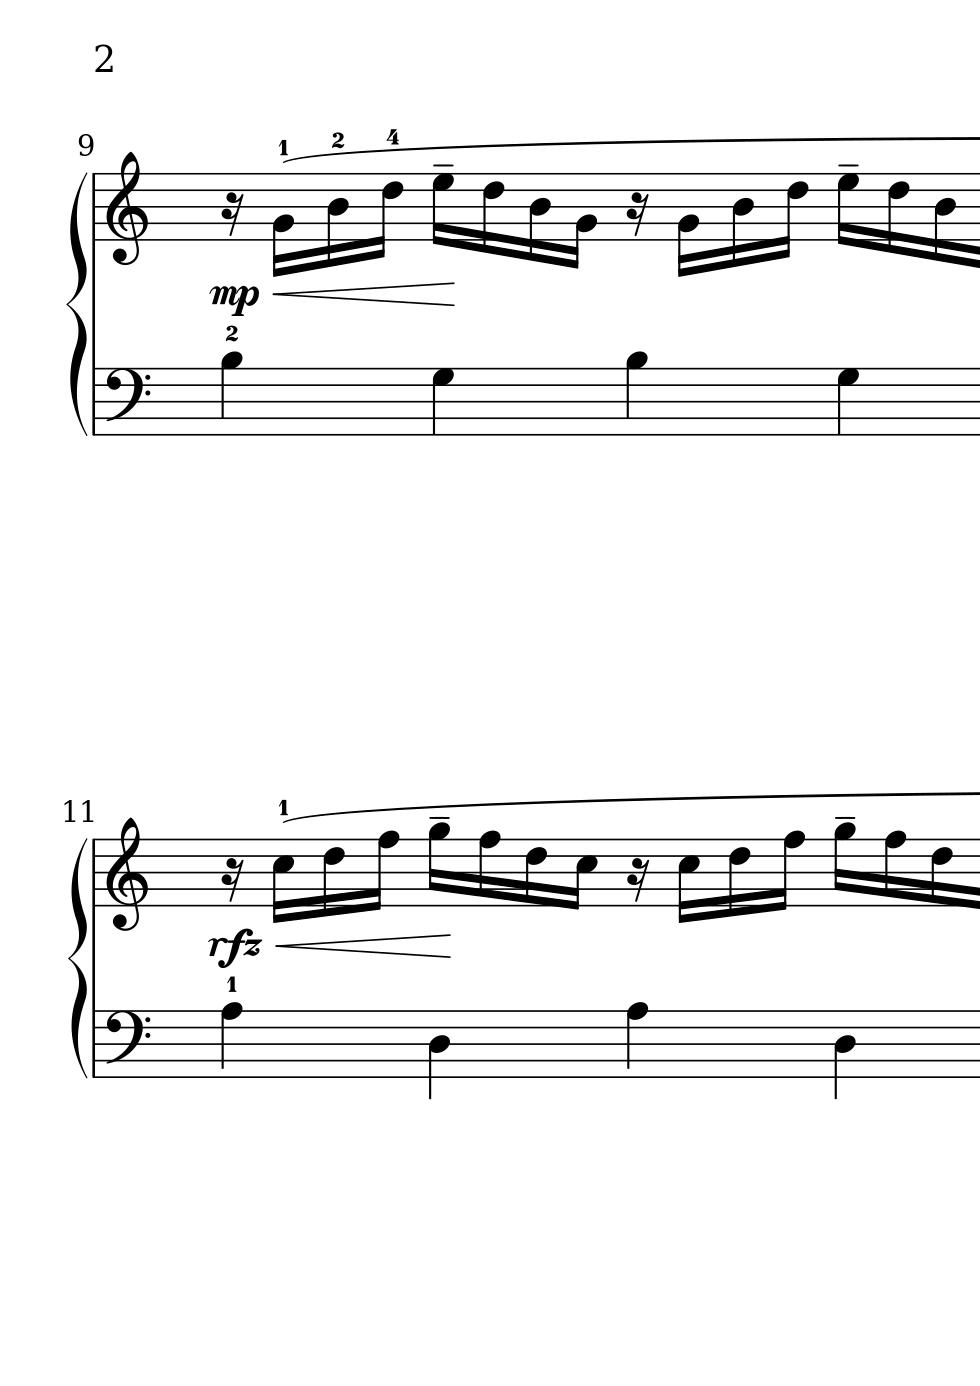1: (78, 799, 95, 826), (62, 799, 77, 827), (276, 135, 288, 157), (225, 973, 239, 993), (276, 796, 288, 815)
16_2: (566, 170, 596, 270), (675, 171, 700, 277), (272, 171, 295, 275)
16_4: (729, 172, 754, 270), (323, 173, 349, 270), (932, 171, 957, 266), (527, 172, 552, 265)
16_5: (566, 837, 598, 912), (673, 836, 700, 925), (269, 837, 295, 925)
16_6: (774, 170, 808, 261), (369, 171, 403, 260), (885, 170, 910, 257), (320, 836, 345, 919), (482, 170, 505, 257), (727, 836, 751, 918), (523, 836, 547, 909), (929, 836, 953, 909)
16_7: (834, 169, 859, 250), (428, 170, 453, 250)
16_8: (366, 829, 399, 913), (771, 829, 804, 913), (882, 829, 906, 908), (477, 829, 500, 909)
16_9: (425, 821, 449, 909), (832, 821, 853, 909)
2: (92, 43, 113, 74), (329, 129, 345, 150)
4: (384, 128, 401, 145)
4_4: (832, 1008, 856, 1100), (427, 1008, 451, 1100)
4_7: (835, 366, 861, 437), (430, 366, 455, 437)
4_8: (624, 1000, 648, 1078), (218, 1000, 242, 1078)
4_9: (218, 349, 243, 437), (624, 350, 648, 437)
9: (78, 131, 94, 158)
Brace: (65, 171, 89, 436), (70, 838, 91, 1076)
Crescendo_hairpin: (274, 281, 453, 308), (275, 933, 450, 958)
Fclef: (101, 366, 150, 438), (101, 1008, 150, 1078)
Gclef: (103, 150, 148, 267), (103, 815, 148, 933)
Rests16: (218, 191, 245, 238), (625, 856, 650, 903), (625, 190, 650, 236), (220, 857, 244, 903)
Single_barline: (88, 173, 101, 241), (89, 368, 102, 436), (88, 839, 101, 906), (89, 1010, 101, 1078)
mp: (206, 282, 263, 317)
